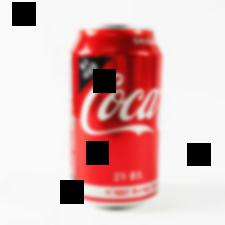cocacola: (61, 18, 173, 213)
